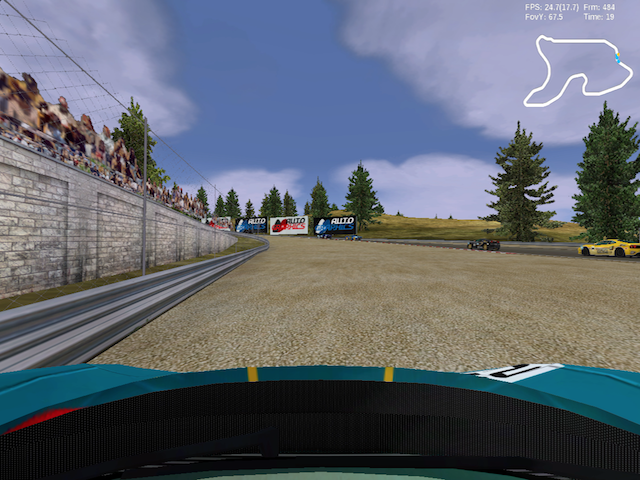Cavallo360: (578, 238, 640, 257)
Spirit300: (466, 239, 500, 252)
